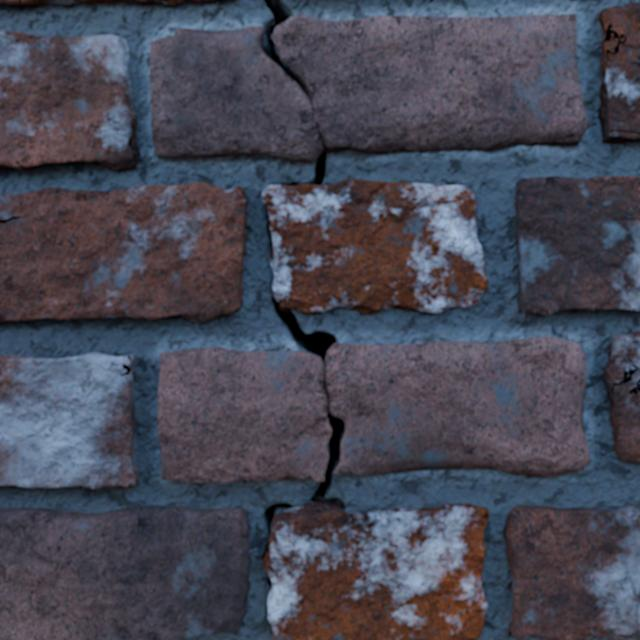broken_brick: (150, 14, 588, 162), (157, 337, 589, 483)
crack: (262, 411, 489, 639), (262, 151, 488, 366), (0, 182, 247, 325), (0, 505, 249, 639), (0, 31, 139, 171), (0, 352, 138, 488), (503, 504, 639, 639), (515, 176, 639, 315), (598, 2, 639, 143), (259, 0, 313, 103), (604, 332, 639, 462), (0, 0, 217, 7), (322, 380, 328, 402), (320, 138, 325, 145), (574, 48, 575, 68), (289, 354, 298, 355)
